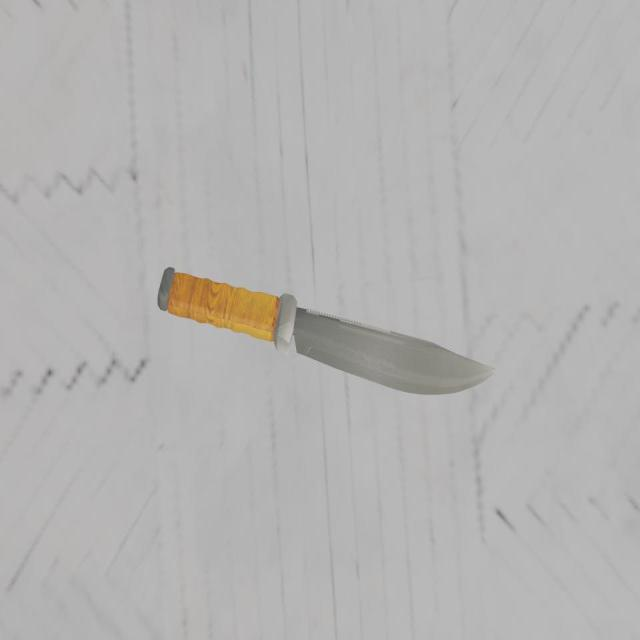knife: (161, 267, 295, 333)
